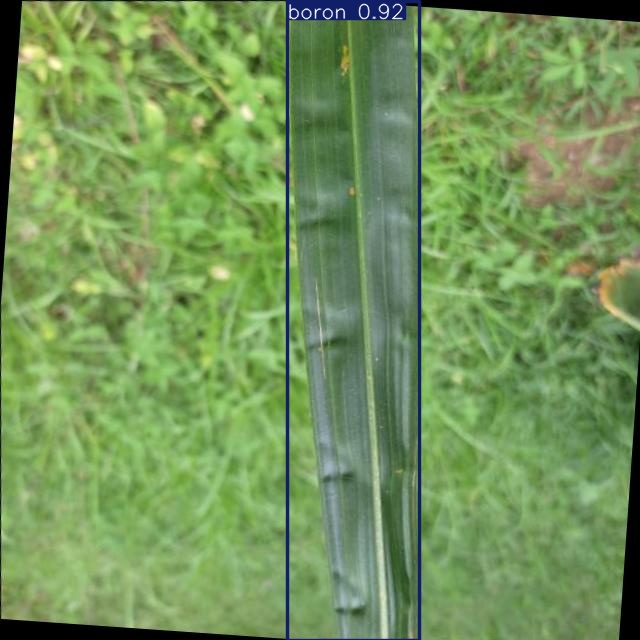nitrogen: (287, 2, 419, 640)
